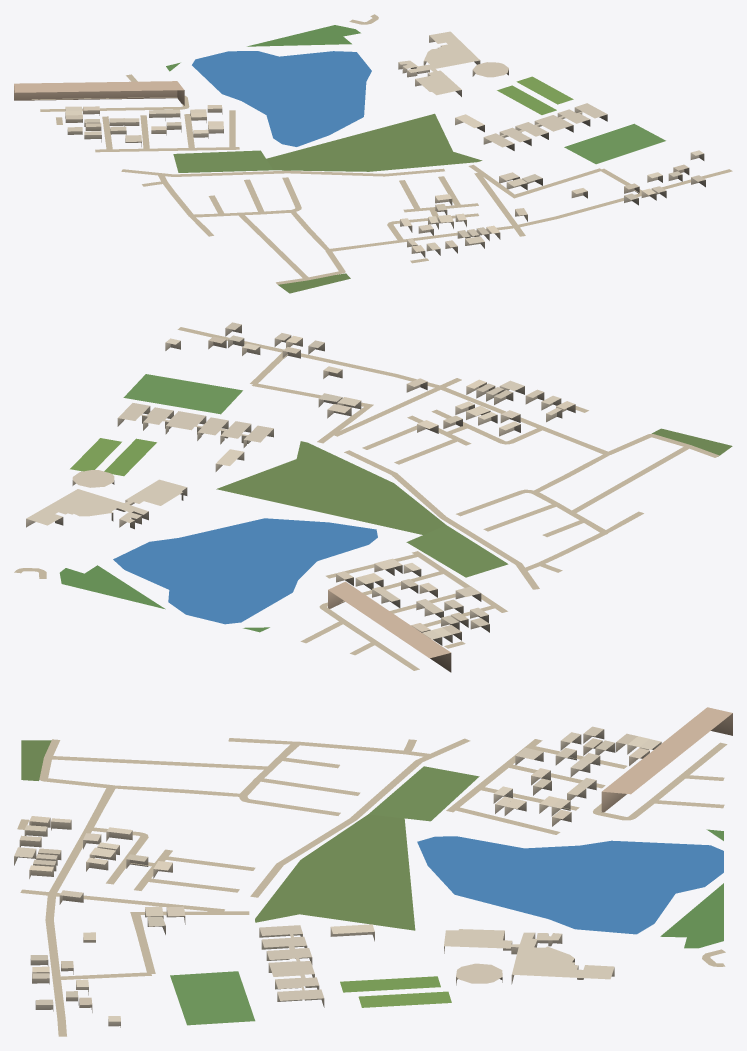
The picture shows the model from 3 angles, top to bottom: view 1: azimuth 30°, elevation 25°; view 2: azimuth 150°, elevation 25°; view 3: azimuth 270°, elevation 25°; orthographic projection. The views are drawn at different scales.
Parts seen in each view (by area): view 1: ground, building, water; view 2: ground, building, water; view 3: ground, building, water.
Part boxes in pixels (x1,y1,x2,y2): ground: (31,14,732,293); building: (14,31,705,257); water: (192,51,371,146); ground: (14,327,732,670); building: (26,322,575,672); water: (113,518,377,624); ground: (17,738,727,1036); building: (14,707,732,1027); water: (417,836,723,934).
Size of the model in its own units: 519 by 18 by 512.
